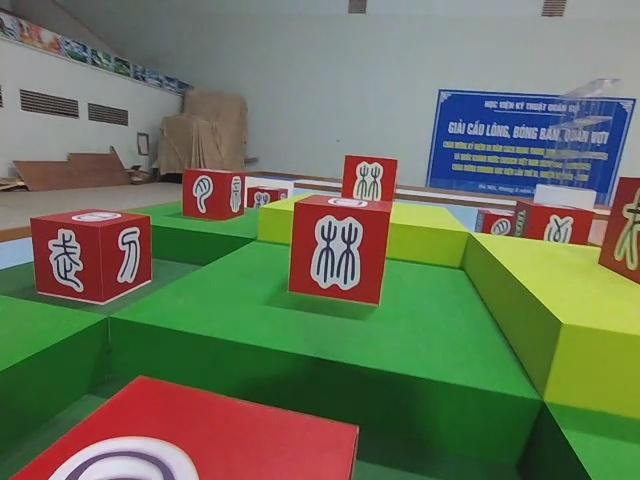R2 Fake: (285, 191, 396, 307), (29, 205, 155, 304), (594, 173, 640, 291), (509, 194, 596, 251), (339, 151, 401, 216), (178, 166, 248, 223)
